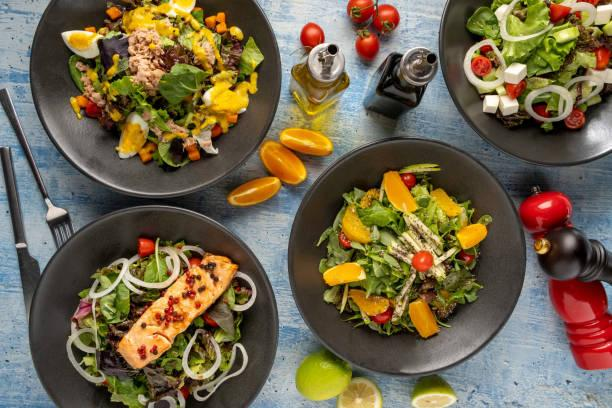Braised Crucian Carp: (286, 135, 519, 373), (28, 205, 277, 406), (30, 1, 281, 197), (439, 1, 610, 166)
